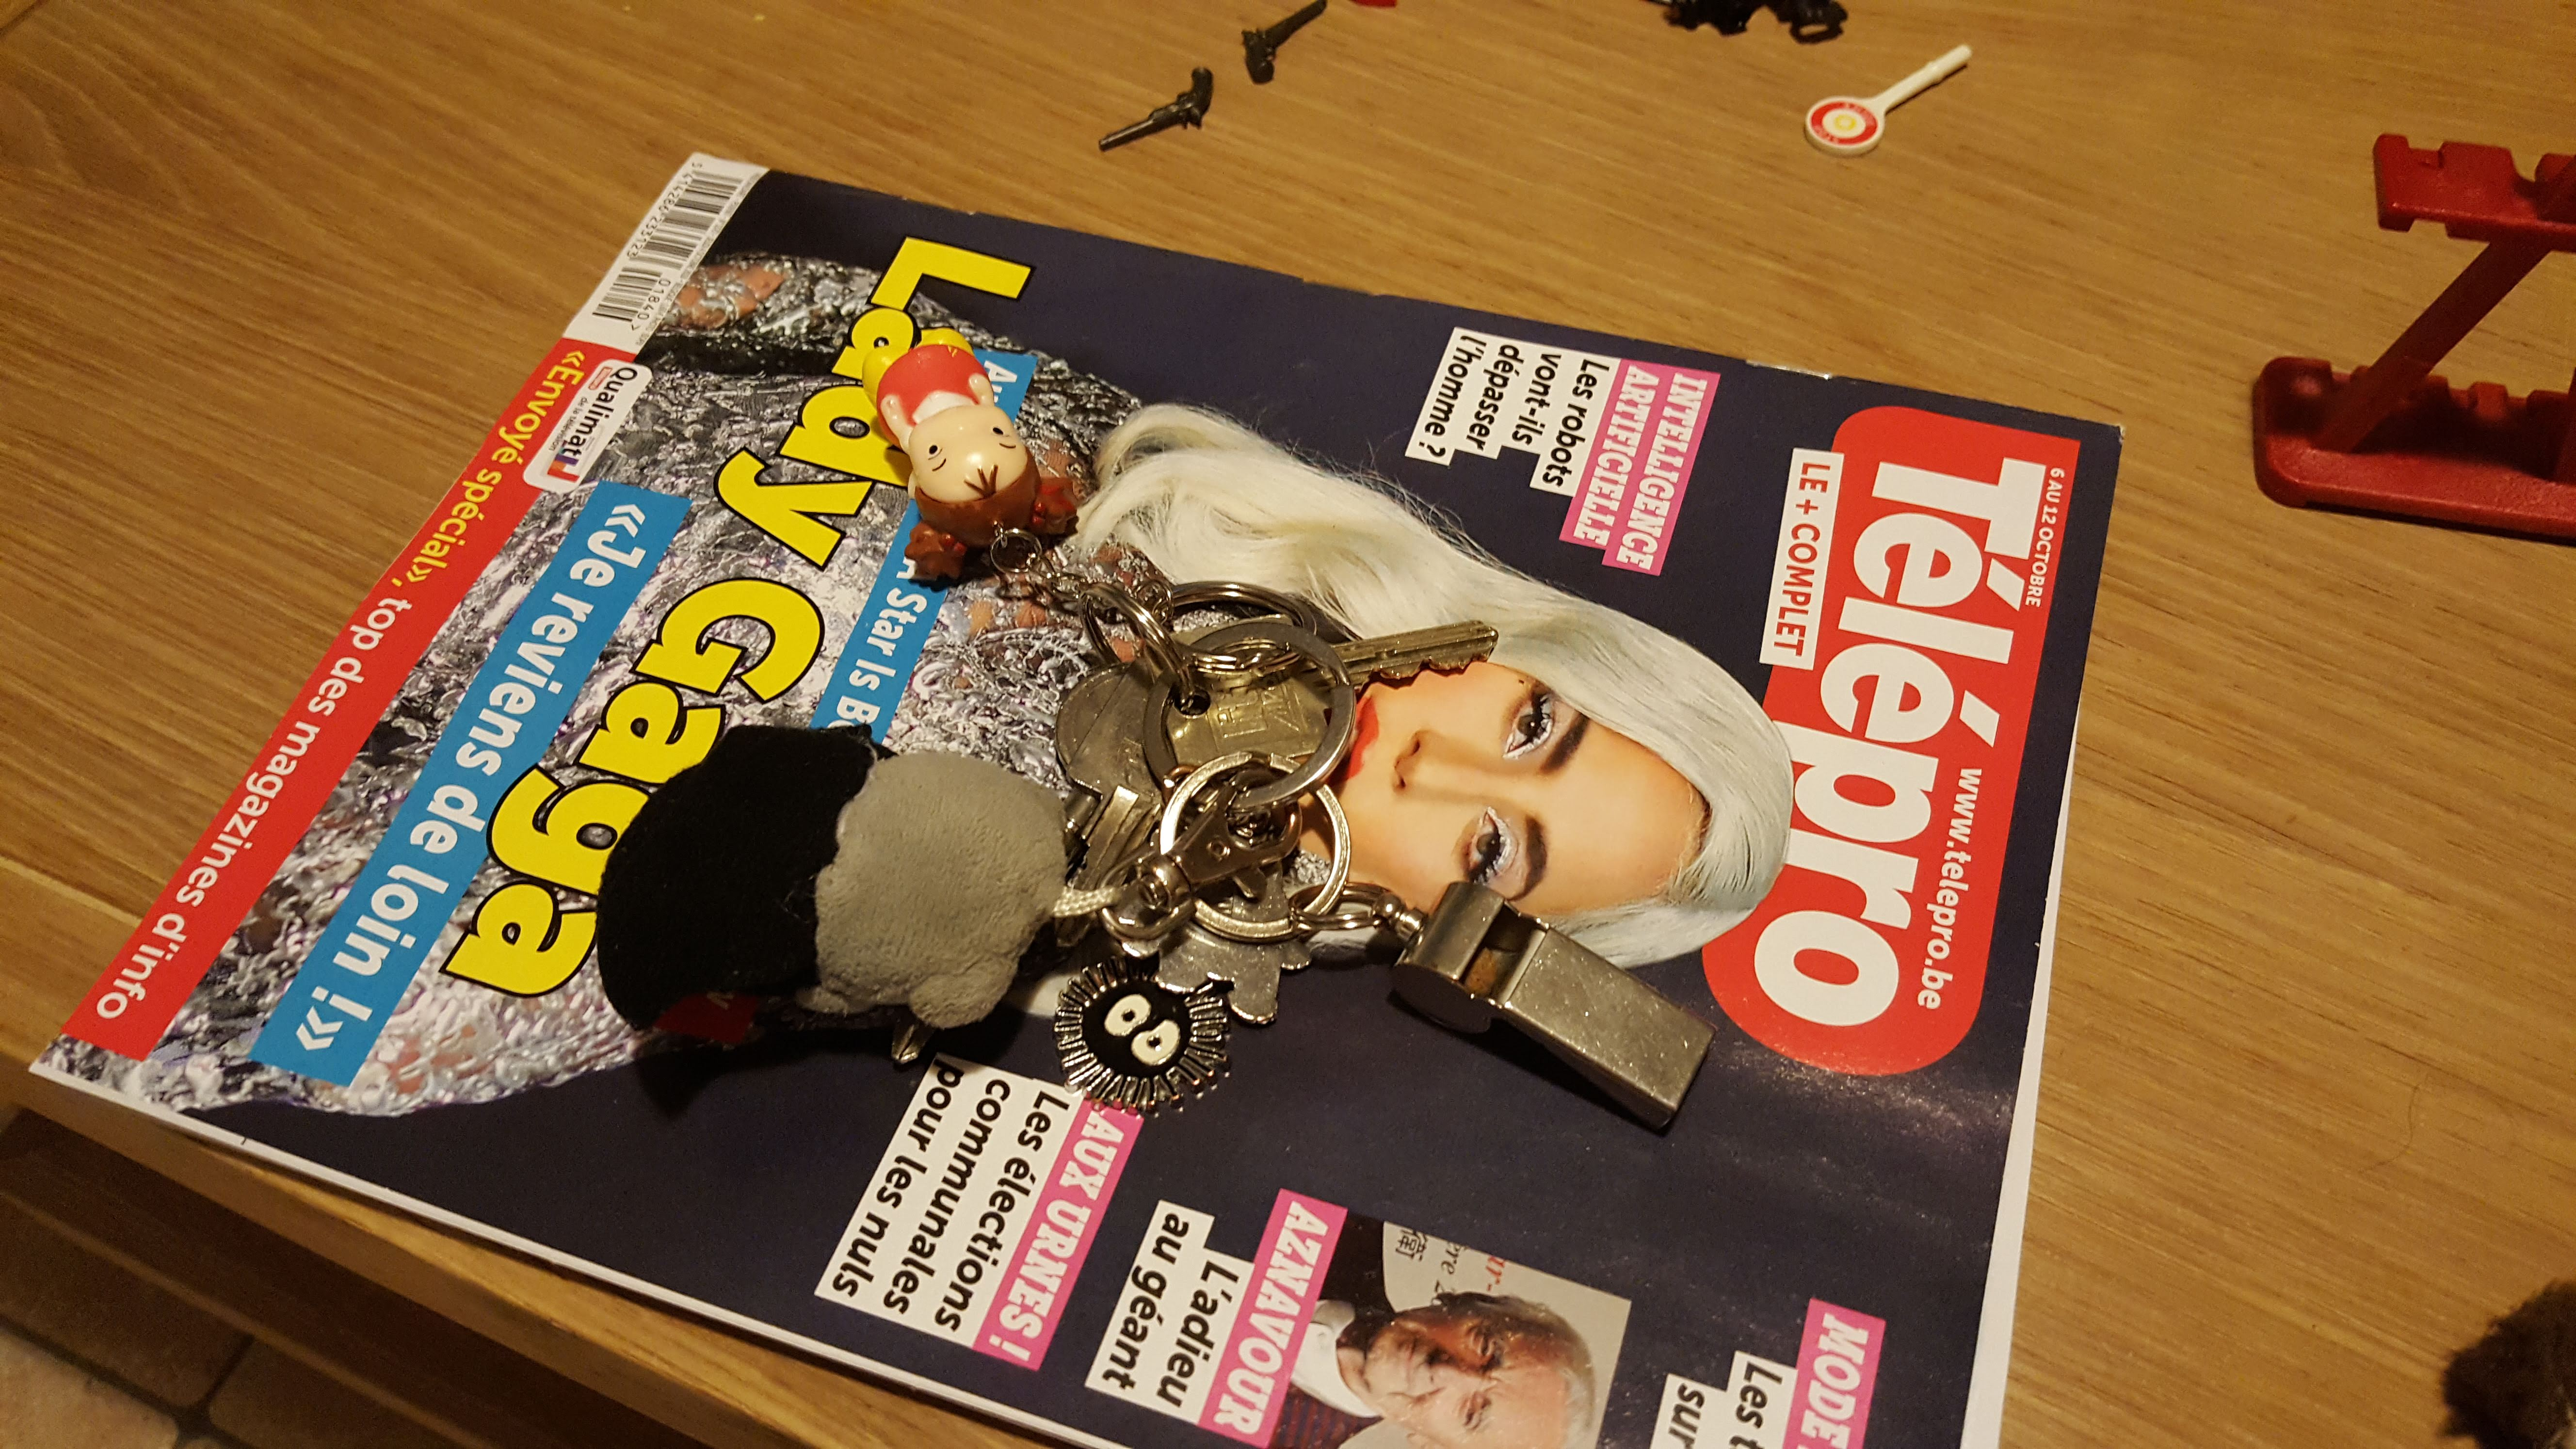key: (1150, 612, 1500, 778)
